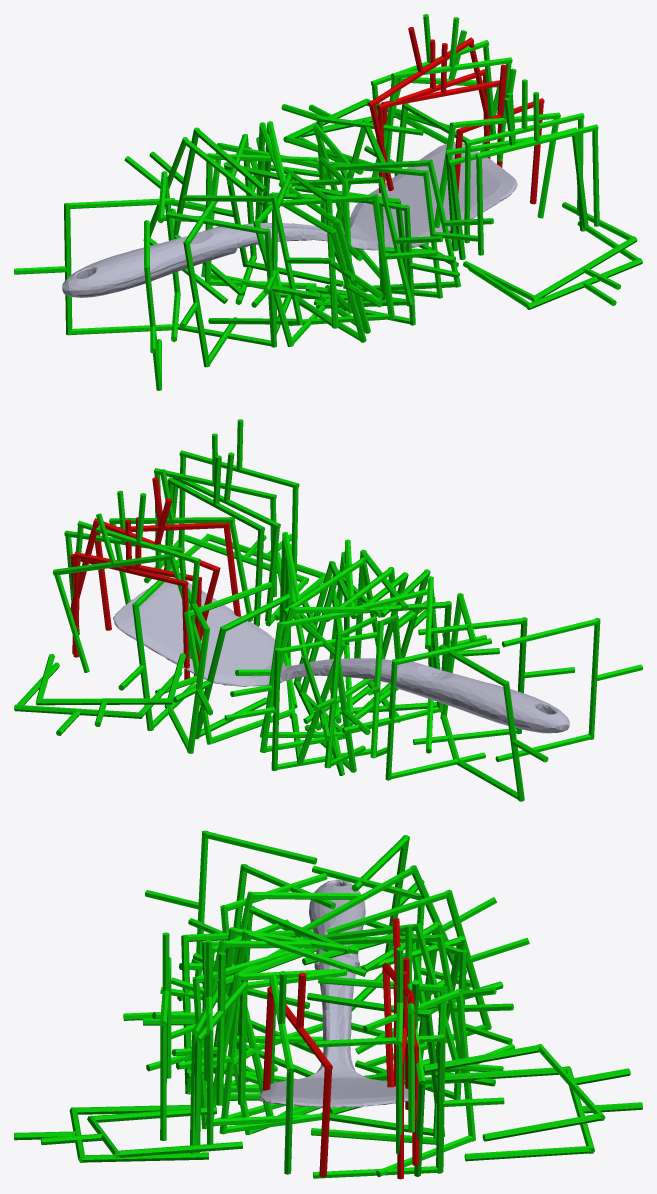
File: trellis_gt_grasps.glb
3 views of the same model, one above another, from view 1: azimuth 30°, elevation 25°; view 2: azimuth 150°, elevation 25°; view 3: azimuth 270°, elevation 25° (orthographic). The views are drawn at different scales.
Visible parts, largest first — view 1: world; view 2: world; view 3: world.
Part boxes in pixels (left/top/right/bottom): world: left=14, top=14, right=642, bottom=390; world: left=14, top=419, right=642, bottom=801; world: left=14, top=830, right=642, bottom=1179.
Bounding box in the file's own units: 0.355 × 0.1534 × 0.3338.
